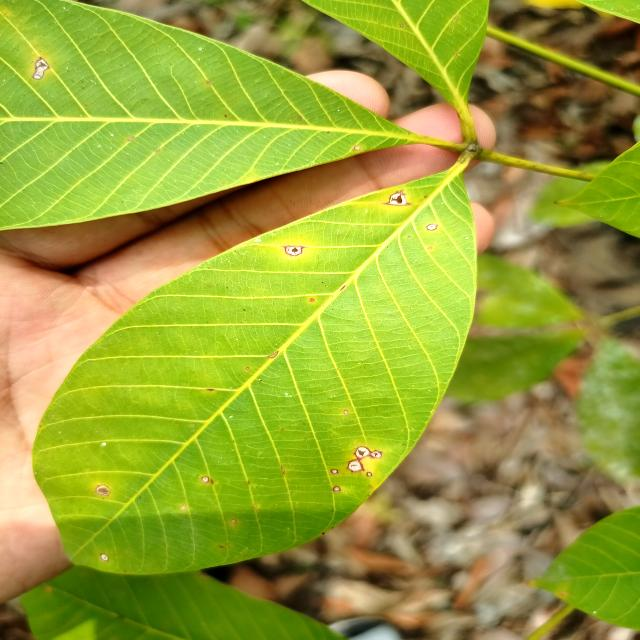Colletotrichum: (347, 459, 364, 473), (354, 446, 371, 460), (285, 246, 302, 256), (96, 484, 110, 496), (371, 450, 382, 458), (426, 224, 438, 231), (100, 553, 109, 561), (202, 476, 210, 482), (333, 486, 341, 491), (331, 469, 338, 474), (366, 472, 372, 476), (343, 410, 349, 414), (309, 298, 314, 302), (428, 247, 432, 250), (246, 367, 250, 369), (424, 196, 427, 198)
